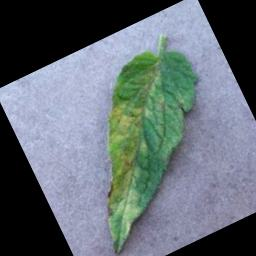Leaf_Mold: (56, 75, 190, 238)
